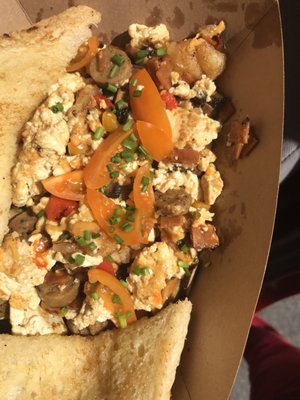soup: (0, 298, 194, 400)
